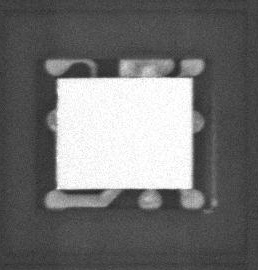DIE_INK: (203, 91, 222, 215)
